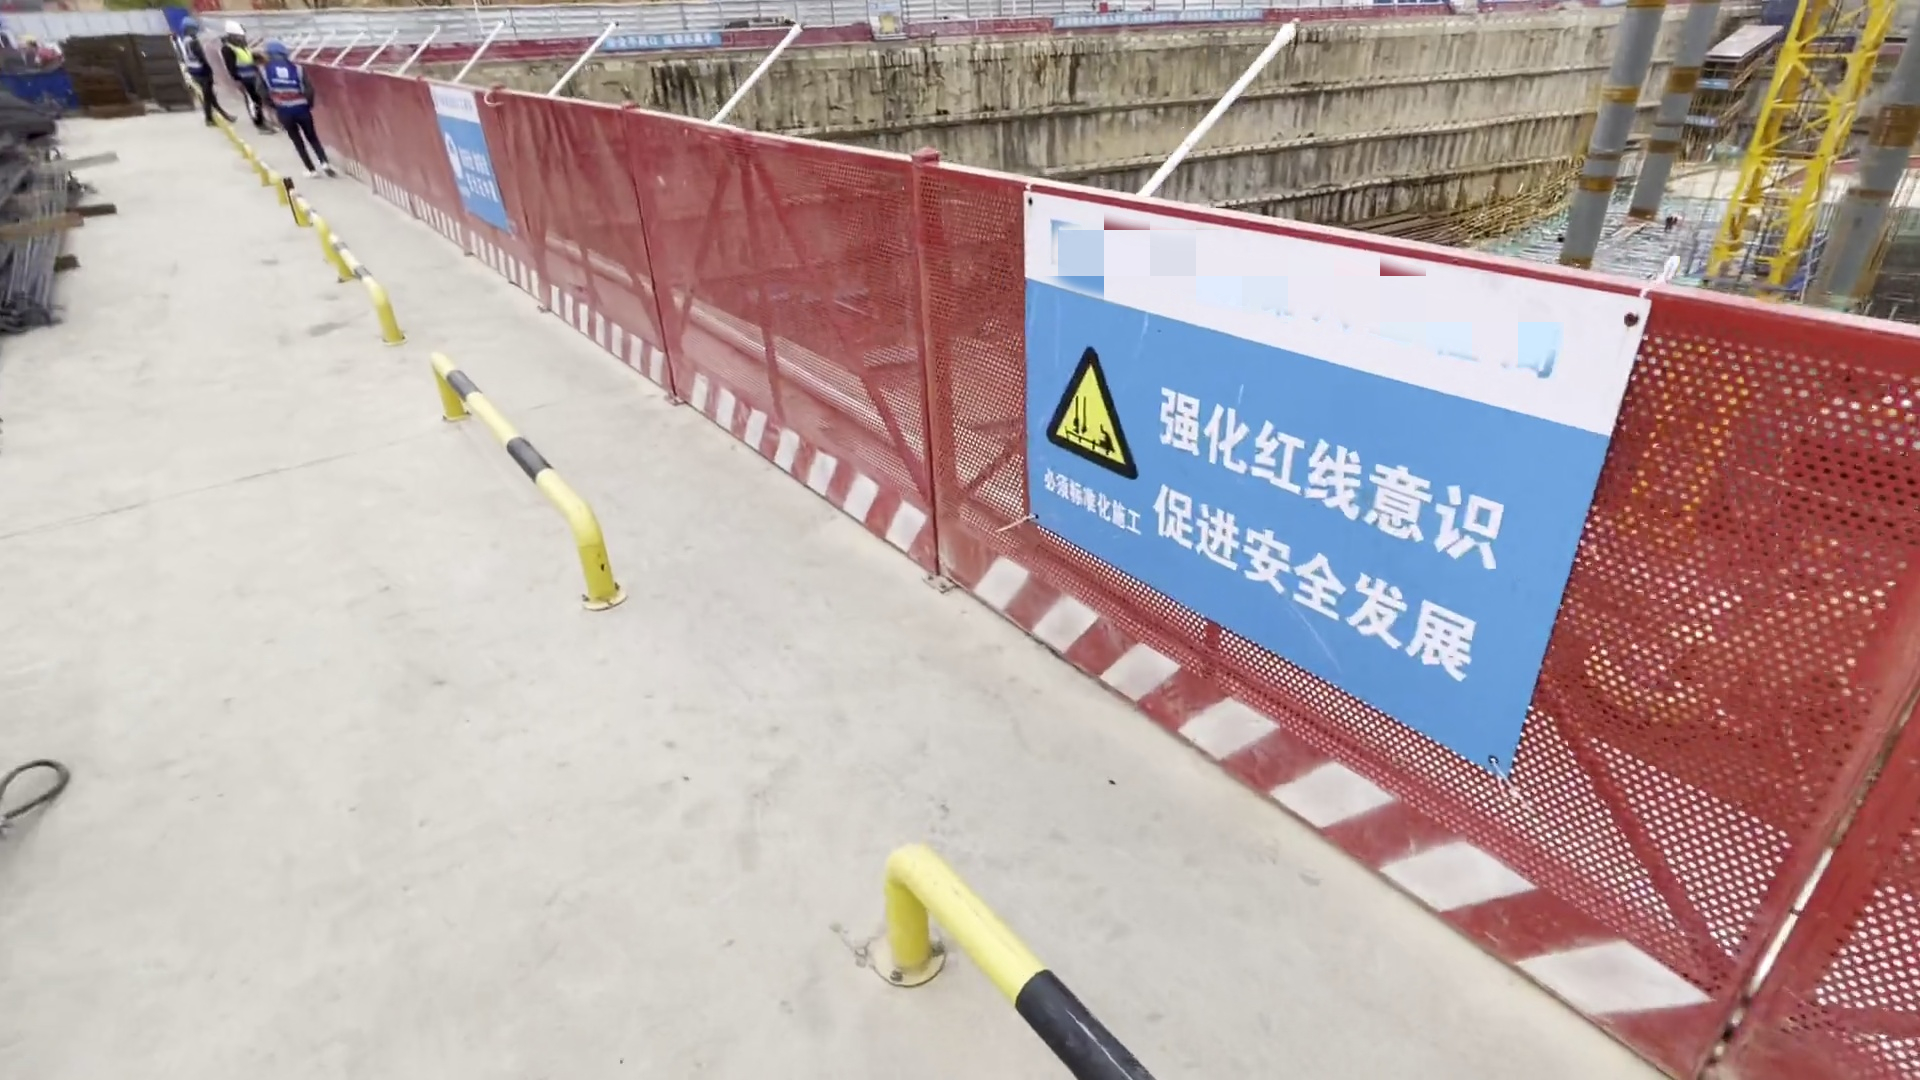fence: (1507, 275, 1920, 1054), (496, 92, 1008, 594), (327, 35, 439, 203)
helmet: (264, 42, 286, 56), (177, 15, 199, 28), (224, 22, 245, 35)
person: (255, 41, 331, 191), (217, 24, 268, 146), (177, 15, 230, 130)
slogan: (1021, 231, 1506, 702), (424, 81, 505, 212)
vest: (260, 63, 305, 114), (227, 43, 257, 84), (179, 37, 202, 73)
